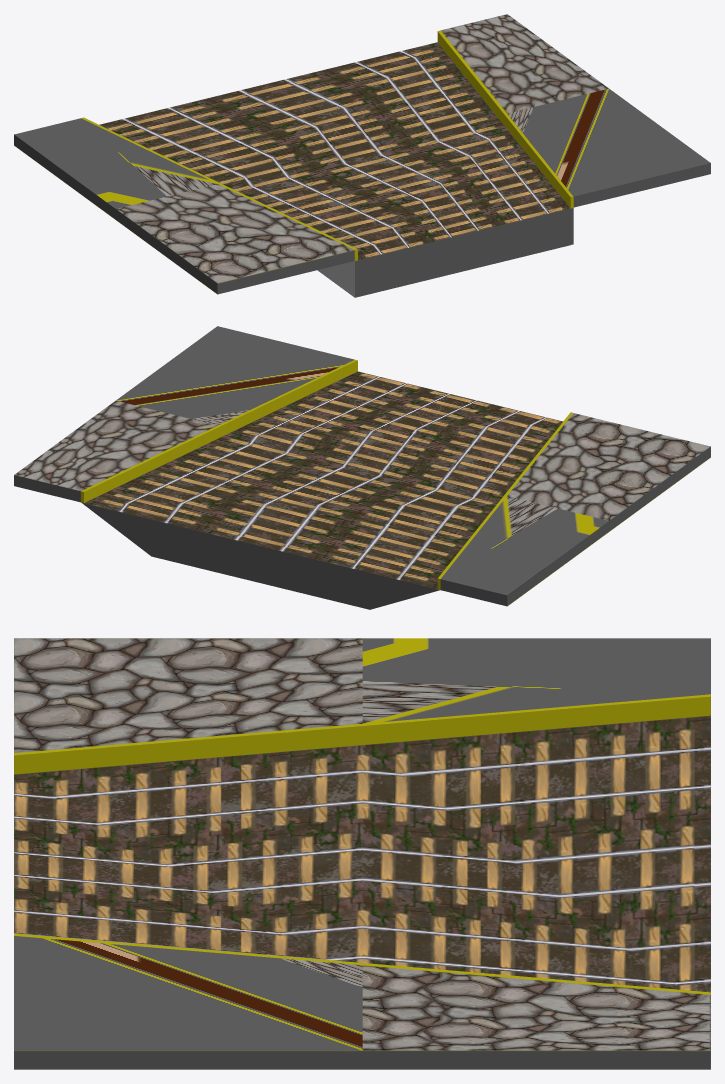
The model's file is groundStart02.fbx.
The picture shows the model from 3 angles, top to bottom: view 1: azimuth 30°, elevation 25°; view 2: azimuth 150°, elevation 25°; view 3: azimuth 270°, elevation 25°; orthographic projection. The views are drawn at different scales.
Parts seen in each view (by area): view 1: ground.START02; view 2: ground.START02; view 3: ground.START02.
Part boxes in pixels (x1,y1,x2,y2): ground.START02: (14, 14, 710, 297); ground.START02: (14, 326, 710, 609); ground.START02: (14, 638, 710, 1069).
Bounding box in the file's own units: 1400 × 130 × 1000.
